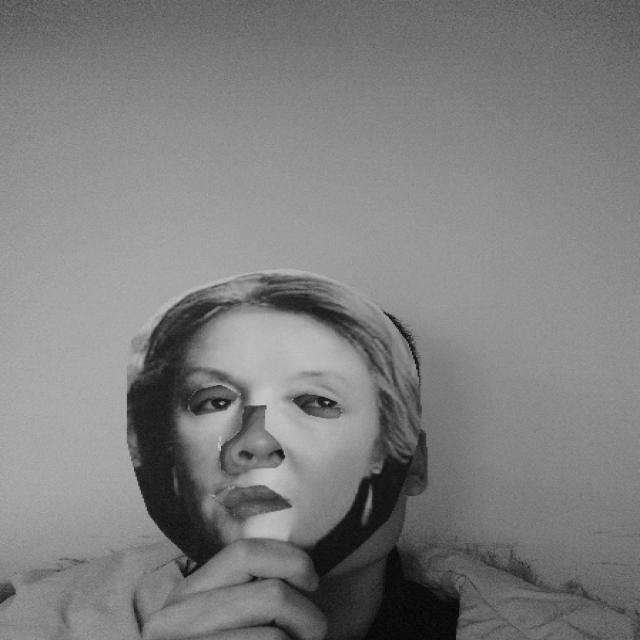fake: (122, 269, 424, 580)
